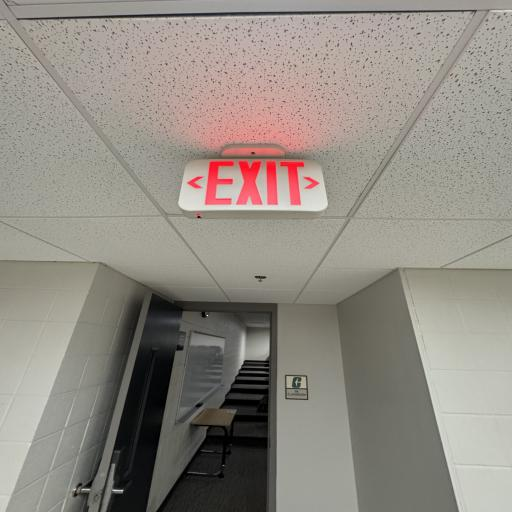door: (94, 290, 176, 512)
doorway: (156, 302, 274, 512)
exit sign: (178, 140, 332, 217)
room 116 sign: (284, 373, 310, 400)
